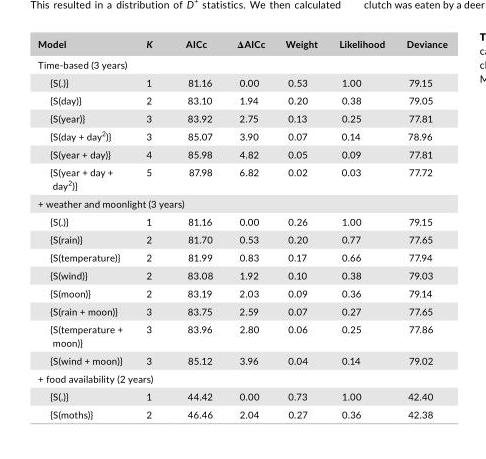table: (37, 36, 446, 419)
table column: (37, 36, 133, 419), (327, 36, 394, 419), (168, 36, 224, 419), (274, 36, 327, 419), (394, 36, 446, 419), (224, 36, 274, 419), (133, 36, 168, 419)
table column header: (37, 36, 446, 55)
table projected row header: (37, 368, 446, 386), (37, 55, 446, 72), (37, 194, 446, 211)
table row: (37, 162, 446, 194), (37, 319, 446, 351), (37, 36, 446, 55), (37, 72, 446, 90), (37, 90, 446, 108), (37, 108, 446, 126), (37, 126, 446, 144), (37, 144, 446, 162), (37, 211, 446, 229), (37, 229, 446, 247), (37, 247, 446, 265), (37, 265, 446, 283), (37, 283, 446, 301), (37, 301, 446, 319), (37, 368, 446, 386), (37, 386, 446, 404), (37, 55, 446, 72), (37, 194, 446, 211), (37, 351, 446, 368), (37, 404, 446, 419)
